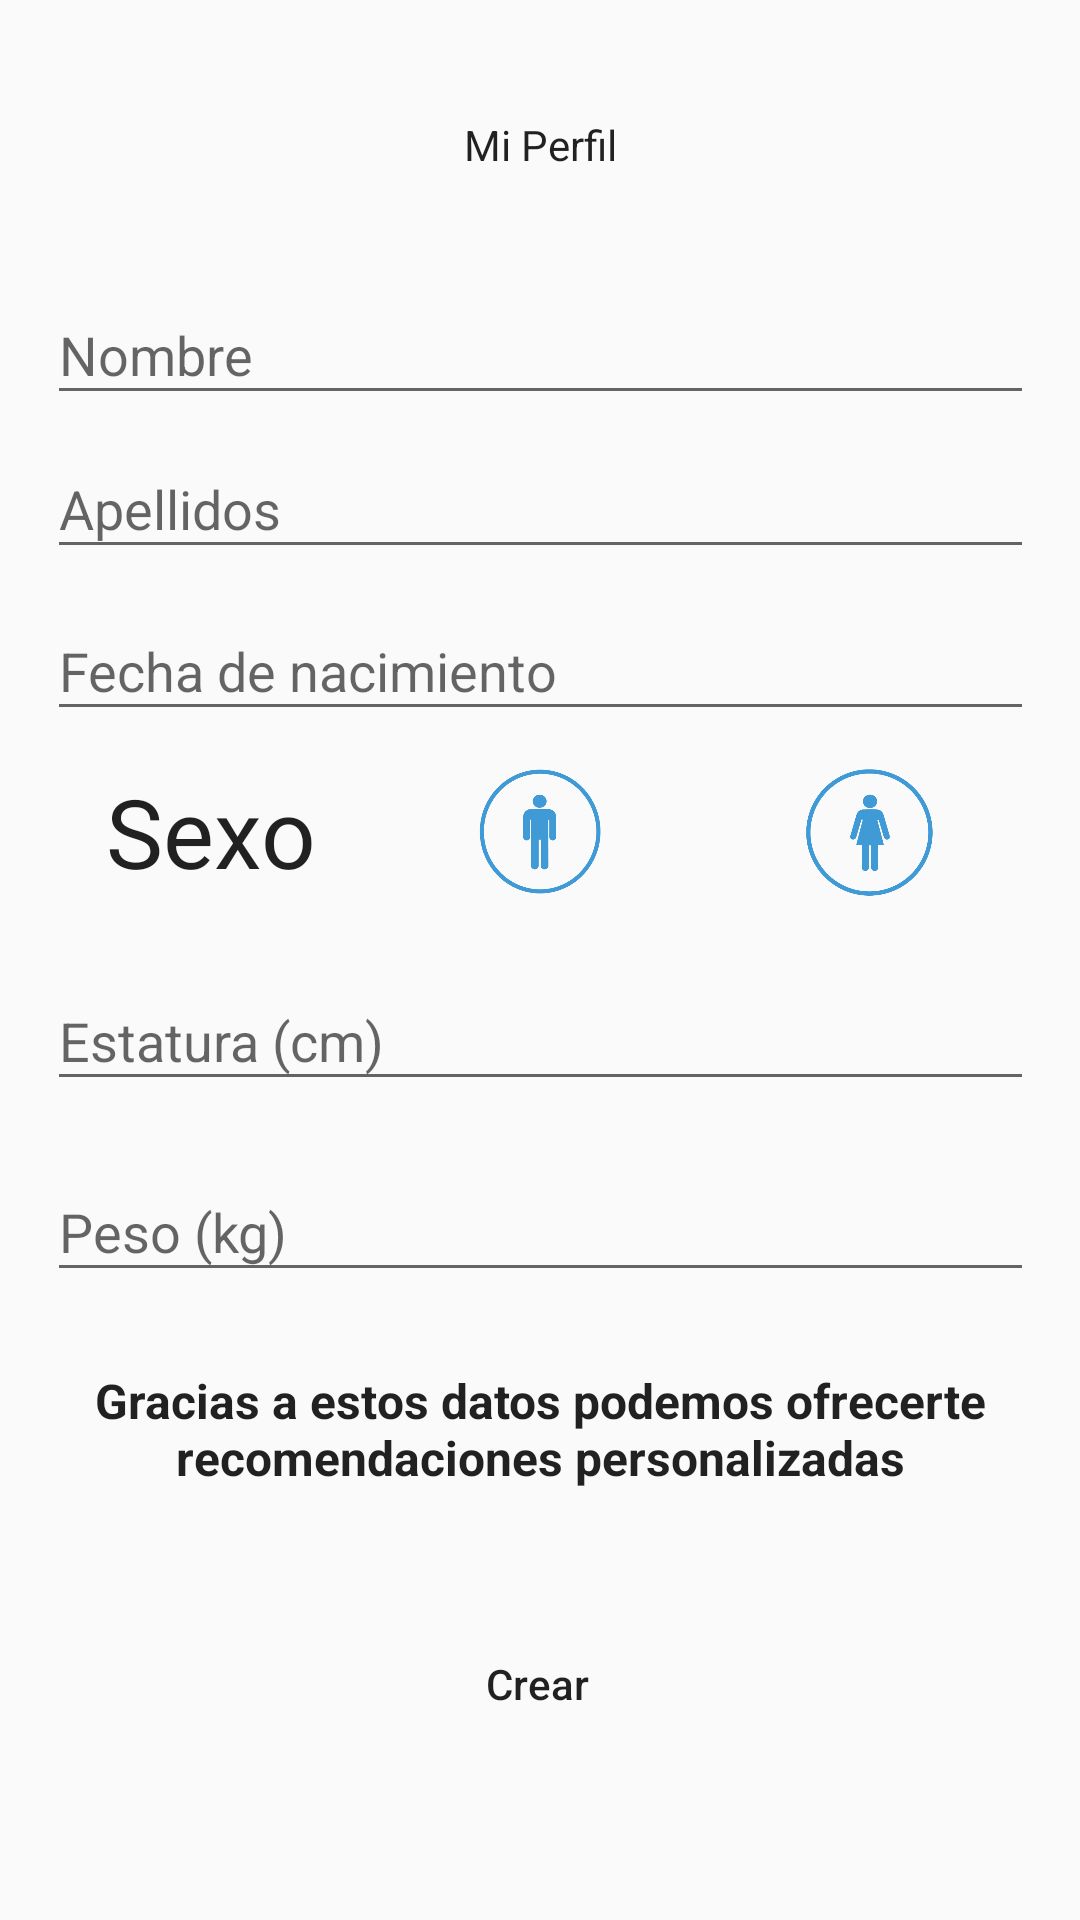

Where to tap for icons on this 1080x1920 app screen, as (x,y):
femenino: (869,832)
masculino: (540,831)
